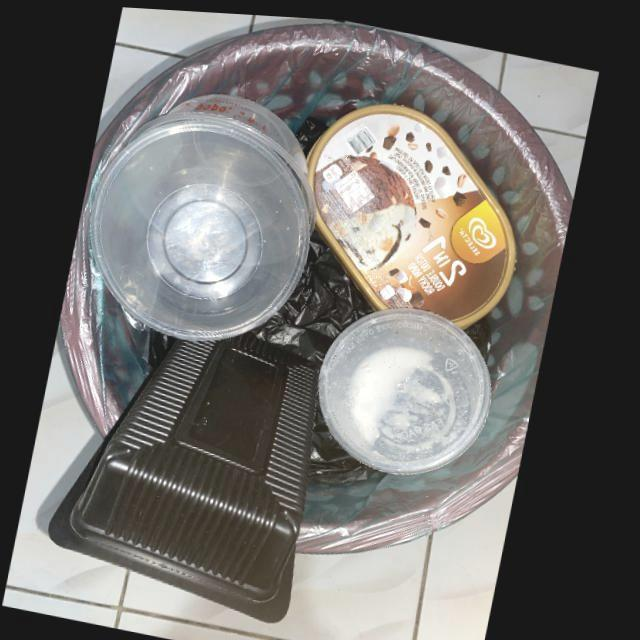plastic_container: (48, 330, 328, 623), (93, 92, 319, 340), (309, 99, 520, 327), (321, 306, 497, 473)
